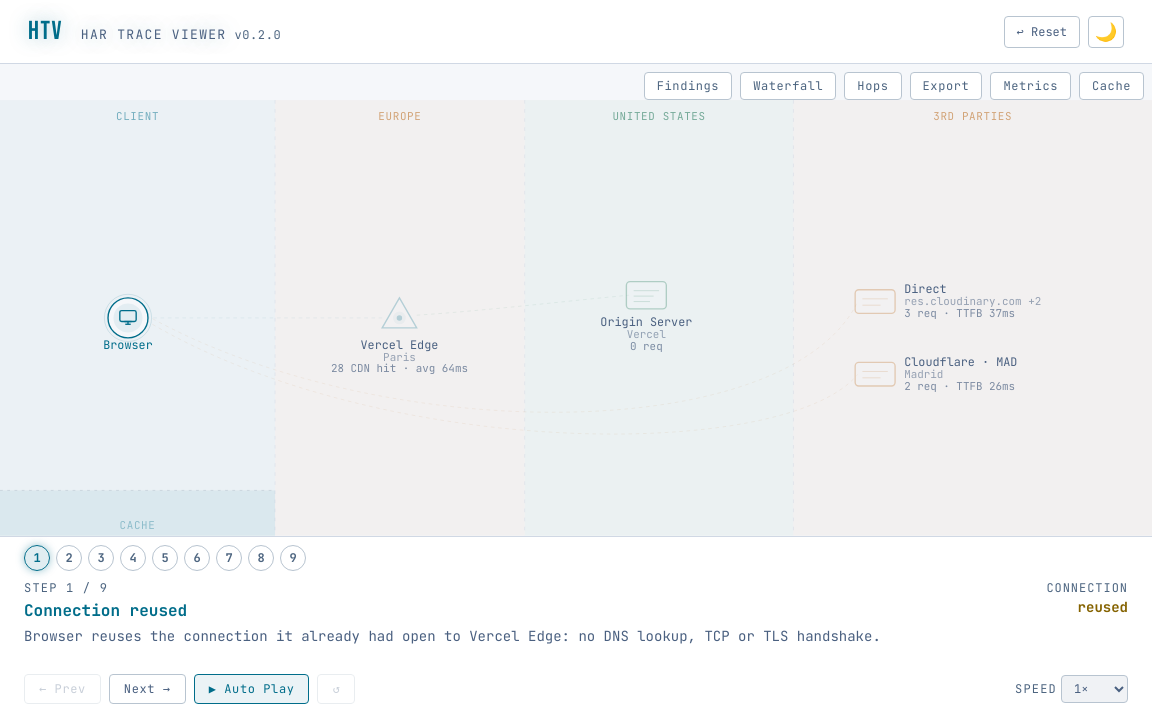
Test: App › renders the embedded flow directly and Reset returns to the builder
Expected: the text "Build your flow" is not shown
Click the button "↩ Reset": (1042, 32) [1004,16,1080,48]
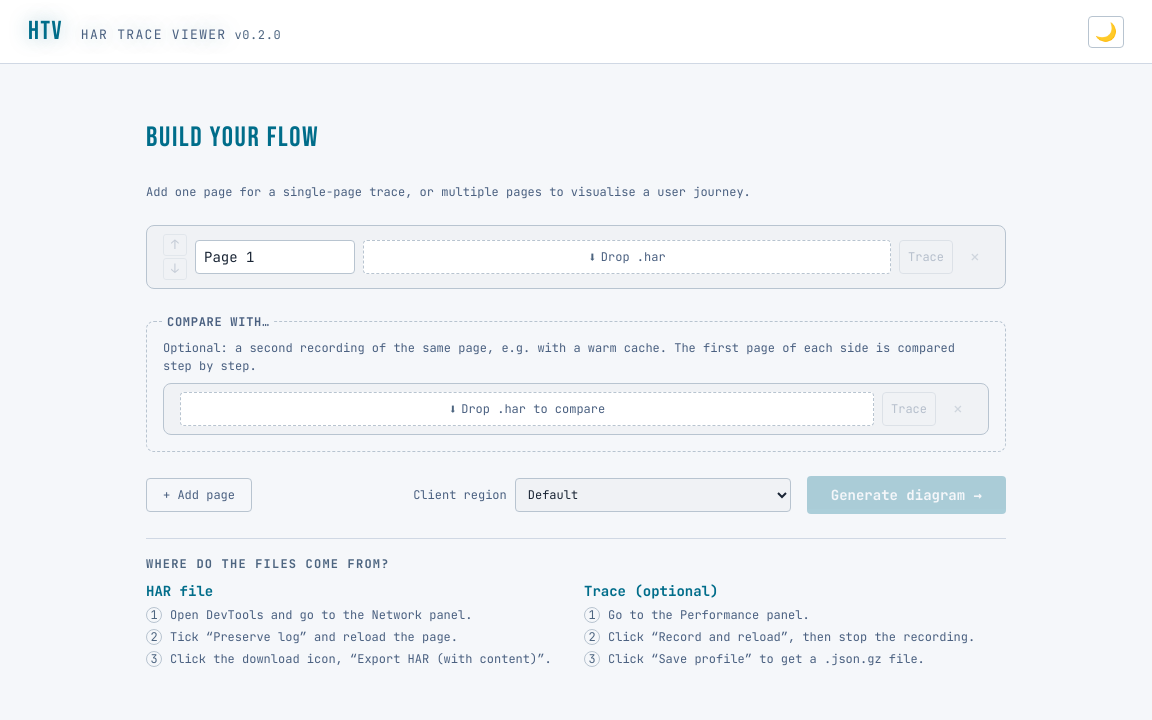
Now the heading "Build your flow" is shown, box [146,120,319,154]
